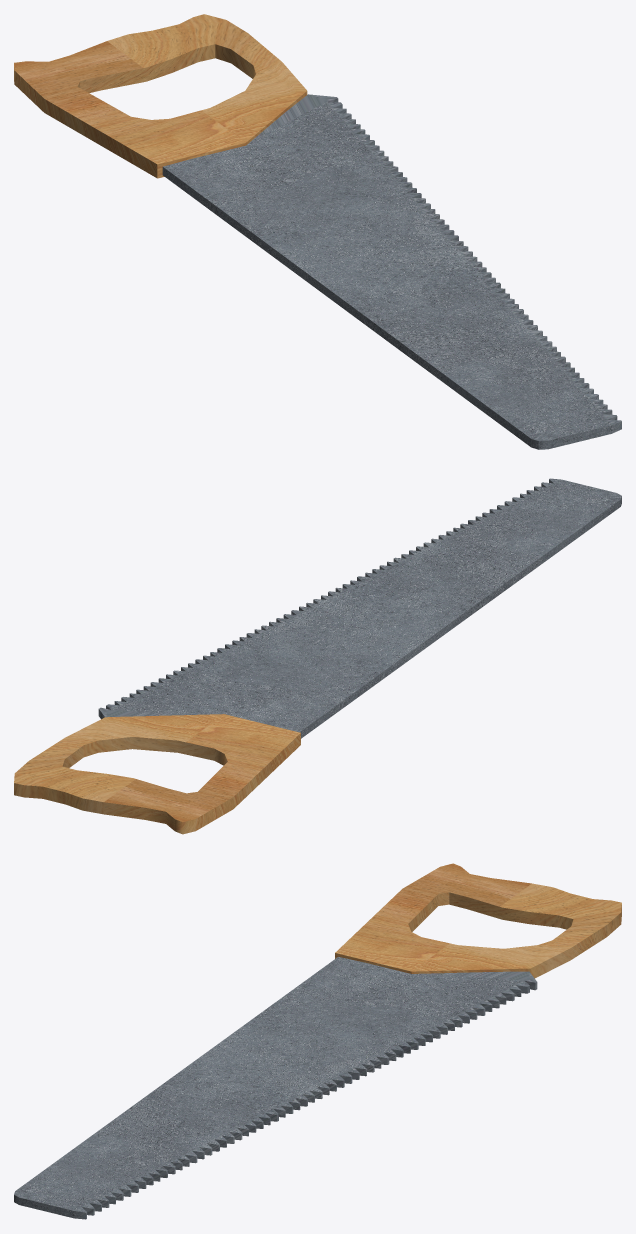
Rendered from Serrucho.fbx.
3 views of the same model, one above another, from view 1: azimuth 30°, elevation 25°; view 2: azimuth 150°, elevation 25°; view 3: azimuth 330°, elevation 25° (orthographic). The views are drawn at different scales.
Parts seen in each view (by area): view 1: Sierra; view 2: Sierra; view 3: Sierra.
Part boxes in pixels (x1=…): Sierra: x1=14, y1=14, x2=621, y2=449; Sierra: x1=14, y1=478, x2=621, y2=834; Sierra: x1=14, y1=863, x2=621, y2=1219.
Size of the model in its own units: 0.3883 by 0.0234 by 1.56.
